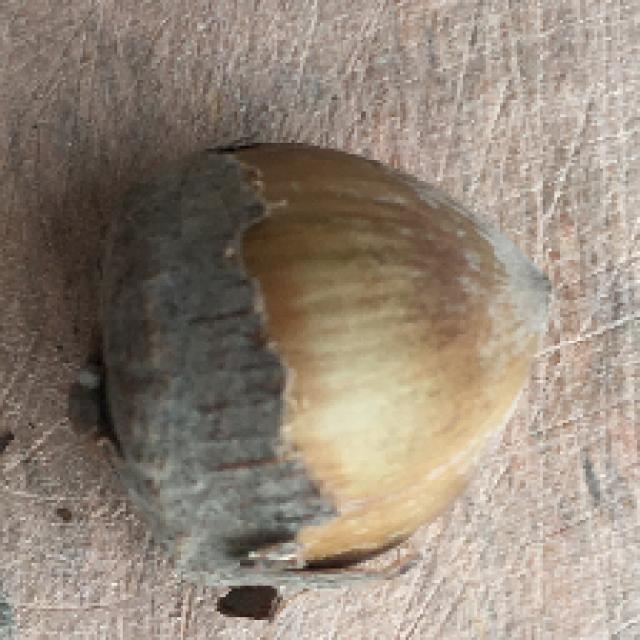damagedHazelnut: (72, 132, 548, 582)
